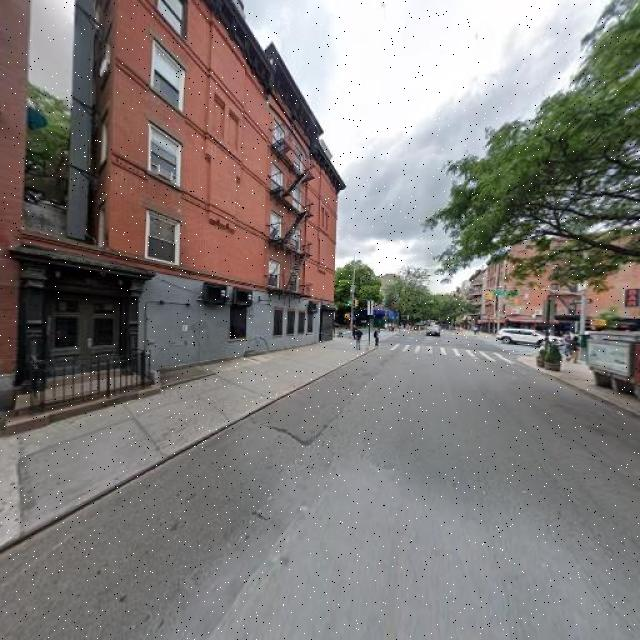Building: (107, 1, 333, 392), (1, 1, 24, 417)
